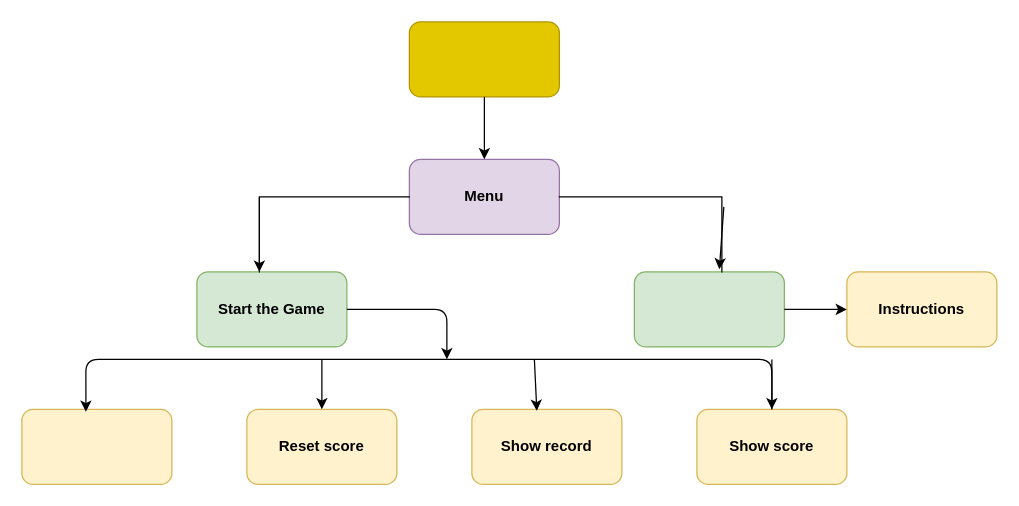
Some shapes in this 1019 by 506 pixel diagram are drawn without their labels. The shapes that lost their labels are listed below. From the top down, each one's centre as x and y in pixels, then its label:
At (x=483, y=59): "Terminal".
At (x=708, y=309): "Help".
At (x=96, y=446): "Edit score".
